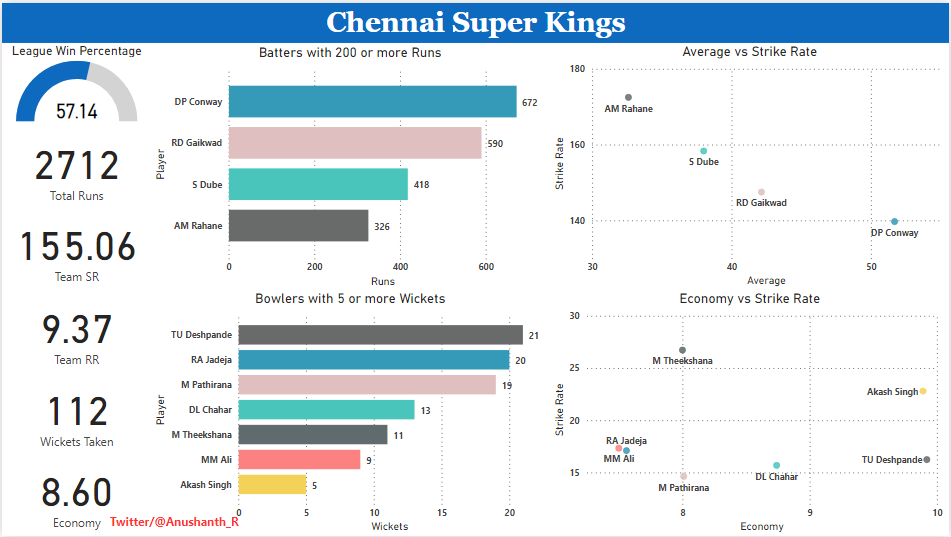

The page's visual inventory and layout, read from the dashboard file:
{"tool":"powerbi","page":{"name":"CSK","canvas":[1280,720],"ordinal":2},"visuals":[{"type":"textbox","box":[0,0,1280.5,54.1],"z":0},{"type":"scatterChart","title":"Average vs Strike Rate","fields":{"Category":["all_batters.Player"],"Y":["Sum(all_batters.SR)"],"X":["Sum(all_batters.Average)"],"Series":["all_batters.Player"]},"box":[740.5,54.1,540,333.7],"z":1000},{"type":"card","fields":{"Values":["Sum(teamwise_batting.Runs)"]},"box":[0,165.6,201.6,110.9],"z":2000},{"type":"card","fields":{"Values":["Sum(teamwise_batting.SR)"]},"box":[0,276.2,201.6,111.3],"z":3000},{"type":"card","fields":{"Values":["Sum(teamwise_batting.RR)"]},"box":[0,387.4,201.6,110.9],"z":4000},{"type":"card","fields":{"Values":["Sum(teamwise_bowling.Wickets)"]},"box":[0,498.2,201.6,111],"z":5000},{"type":"card","fields":{"Values":["Sum(teamwise_bowling.Economy)"]},"box":[0,607.7,201.6,111],"z":6000},{"type":"barChart","title":"Bowlers with 5 or more Wickets","fields":{"Category":["all_bowlers.Player"],"Y":["Sum(all_bowlers.Wickets)"],"Series":["all_bowlers.Player"]},"box":[202,387.8,538.5,332.2],"z":7000},{"type":"scatterChart","title":"Economy vs Strike Rate","fields":{"Category":["all_bowlers.Player"],"X":["Sum(all_bowlers.Economy)"],"Y":["Sum(all_bowlers.SR)"],"Series":["all_bowlers.Player"]},"box":[740.5,387.8,540,332.2],"z":8000},{"type":"gauge","title":"League Win Percentage","fields":{"Y":["Sum(matches_won.Win Percantage)"]},"box":[0,54.1,202,111],"z":9000},{"type":"barChart","title":"Batters with 200 or more Runs","fields":{"Category":["all_batters.Player"],"Y":["Sum(all_batters.Runs)"],"Series":["all_batters.Player"]},"box":[201.6,55,538,332.5],"z":10000},{"type":"textbox","box":[140,685.4,194.4,31.7],"z":11000}]}

Visuals, with their boxes in screenshot pixels (x1, y1, x2, y2), scaled from the page's 1280x720 canvas onto the 951x537 screenshot:
textbox: bbox(0, 0, 950, 40)
"Average vs Strike Rate" scatterChart: bbox(550, 40, 950, 289)
card - Sum(teamwise_batting.Runs): bbox(0, 124, 150, 206)
card - Sum(teamwise_batting.SR): bbox(0, 206, 150, 289)
card - Sum(teamwise_batting.RR): bbox(0, 289, 150, 372)
card - Sum(teamwise_bowling.Wickets): bbox(0, 372, 150, 454)
card - Sum(teamwise_bowling.Economy): bbox(0, 453, 150, 536)
"Bowlers with 5 or more Wickets" barChart: bbox(150, 289, 550, 536)
"Economy vs Strike Rate" scatterChart: bbox(550, 289, 950, 536)
"League Win Percentage" gauge: bbox(0, 40, 150, 123)
"Batters with 200 or more Runs" barChart: bbox(150, 41, 549, 289)
textbox: bbox(104, 511, 248, 535)
